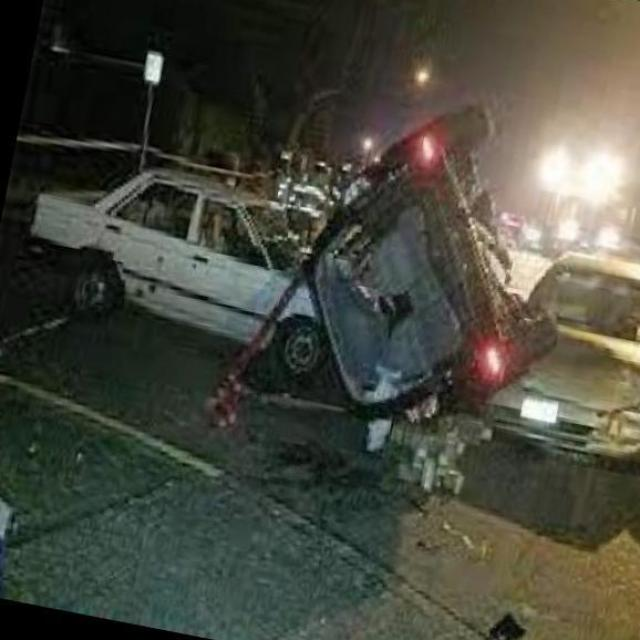accident: (269, 78, 640, 486)
